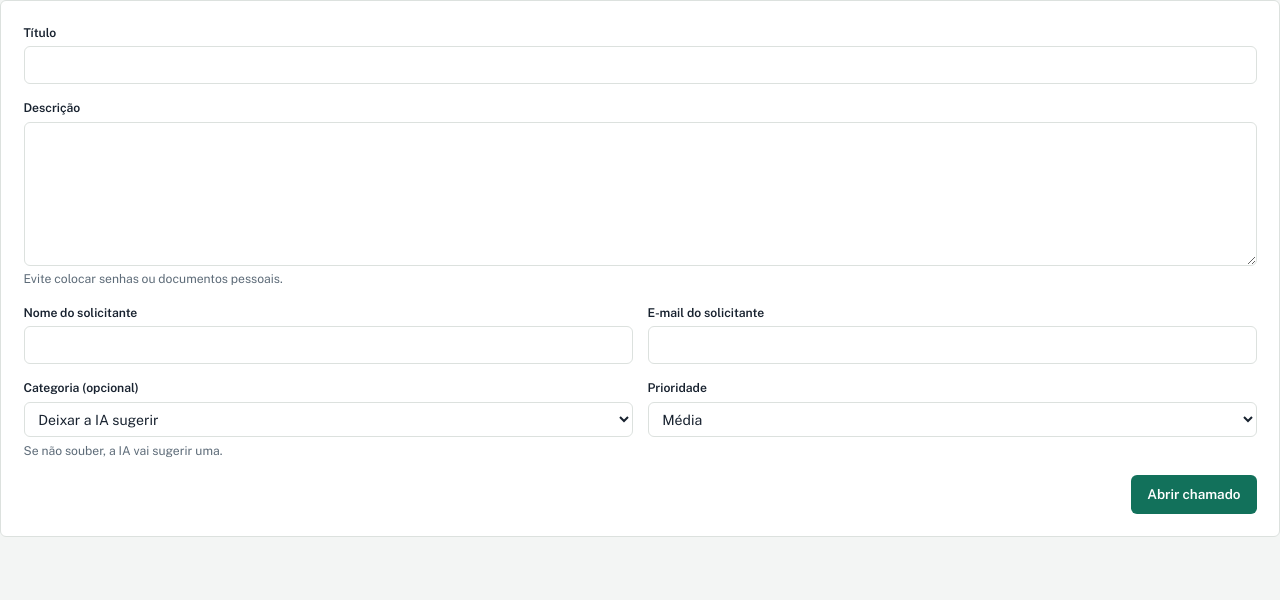
ChamadoForm › mostra os erros de validação e não envia quando os campos estão vazios
Click the button "Abrir chamado": click(1194, 494) [1131,475,1256,514]
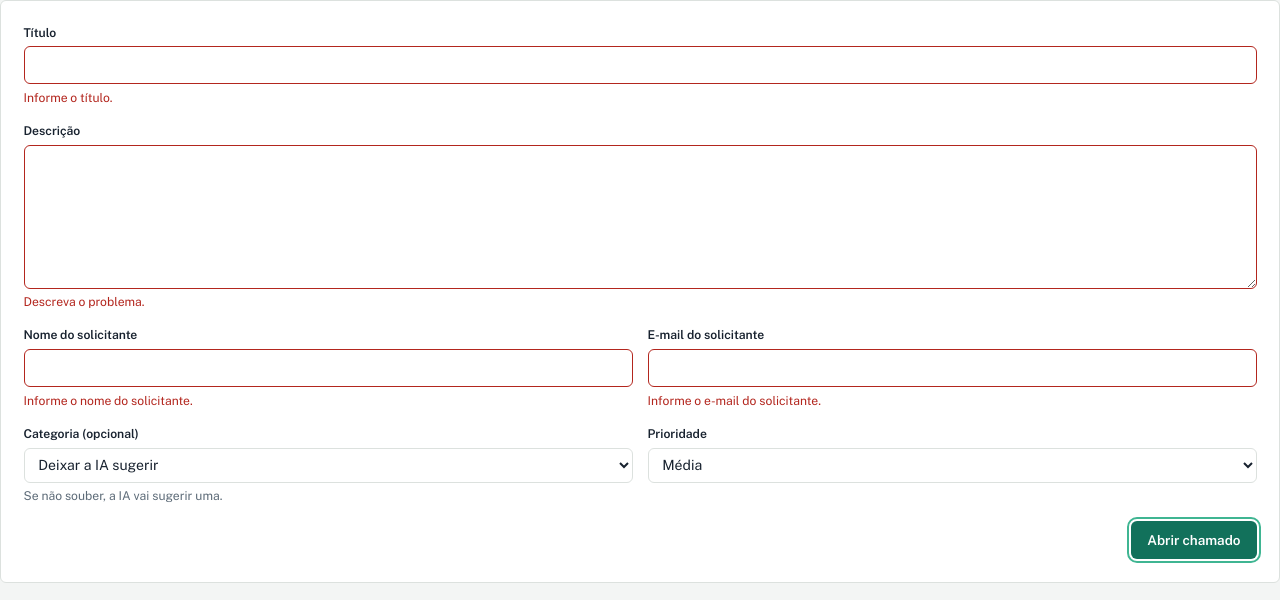
expect the text "Informe o título." is shown: met, box [24,90,113,105]
expect the text "Descreva o problema." is shown: met, box [24,294,144,309]
expect the text "Informe o e-mail do solicitante." is shown: met, box [648,393,821,408]
